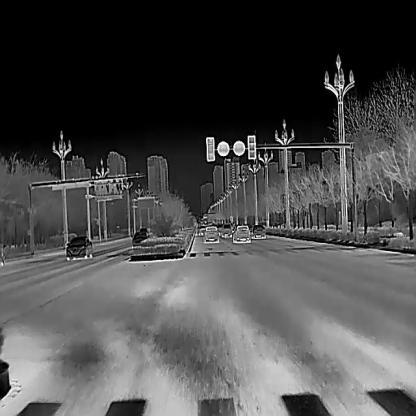car: (65, 235, 92, 260), (131, 227, 150, 247), (232, 224, 251, 242), (202, 225, 219, 242), (251, 224, 265, 238), (220, 222, 233, 236)
light: (249, 131, 260, 164), (206, 136, 217, 160)
sign: (231, 138, 246, 158), (215, 141, 229, 158)
